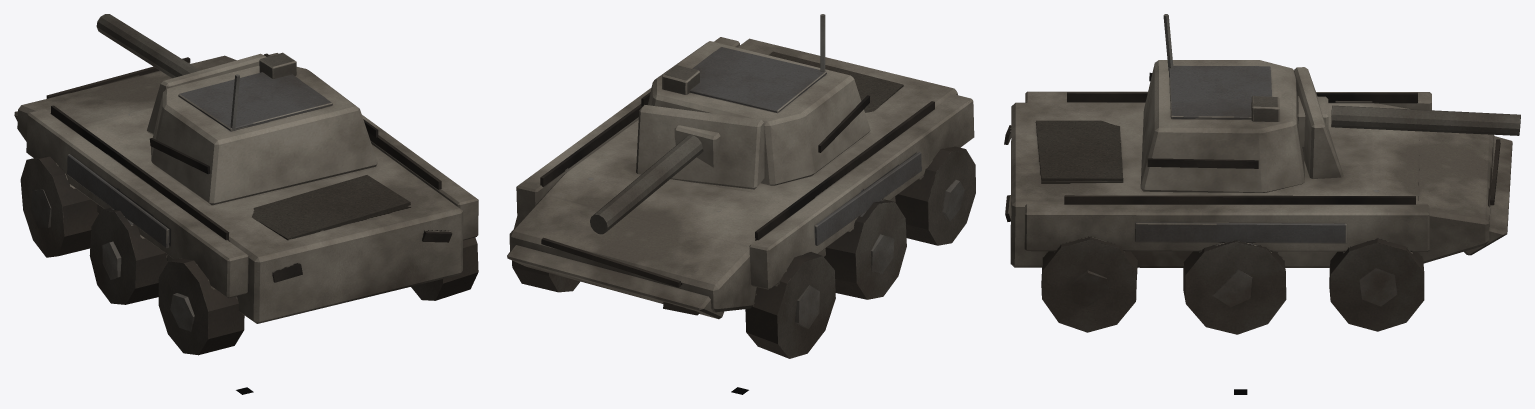
The model's file is ord_courser_wreck.fbx.
3 views of the same model, side by side, from view 1: azimuth 30°, elevation 25°; view 2: azimuth 150°, elevation 25°; view 3: azimuth 270°, elevation 25° (orthographic).
Parts seen in each view (by area): view 1: base_bar, turret_bar, wheelL3_bar, wheelL1_bar, wheelL2_bar, barrel_bar, wheelR3_bar; view 2: base_bar, turret_bar, wheelL1_bar, wheelL2_bar, wheelL3_bar, barrel_bar, wheelR1_bar; view 3: base_bar, turret_bar, wheelR2_bar, wheelR3_bar, wheelR1_bar, barrel_bar.
Part boxes in pixels (<box>): base_bar: <box>14,53,478,323</box>; turret_bar: <box>147,52,378,205</box>; wheelL3_bar: <box>158,258,244,355</box>; wheelL1_bar: <box>20,156,98,257</box>; wheelL2_bar: <box>89,208,167,304</box>; barrel_bar: <box>96,14,199,78</box>; wheelR3_bar: <box>411,237,478,300</box>; base_bar: <box>507,37,974,319</box>; turret_bar: <box>636,14,870,189</box>; wheelL1_bar: <box>745,252,835,358</box>; wheelL2_bar: <box>824,199,906,299</box>; wheelL3_bar: <box>895,146,975,245</box>; barrel_bar: <box>590,125,720,234</box>; wheelR1_bar: <box>512,216,580,292</box>; base_bar: <box>1004,91,1512,267</box>; turret_bar: <box>1140,14,1343,192</box>; wheelR2_bar: <box>1183,240,1286,334</box>; wheelR3_bar: <box>1041,236,1137,332</box>; wheelR1_bar: <box>1329,238,1424,331</box>; barrel_bar: <box>1297,96,1520,148</box>.
Size of the model in its own units: 478 by 579 by 764.
Materials: 2 (2 with a texture image).
